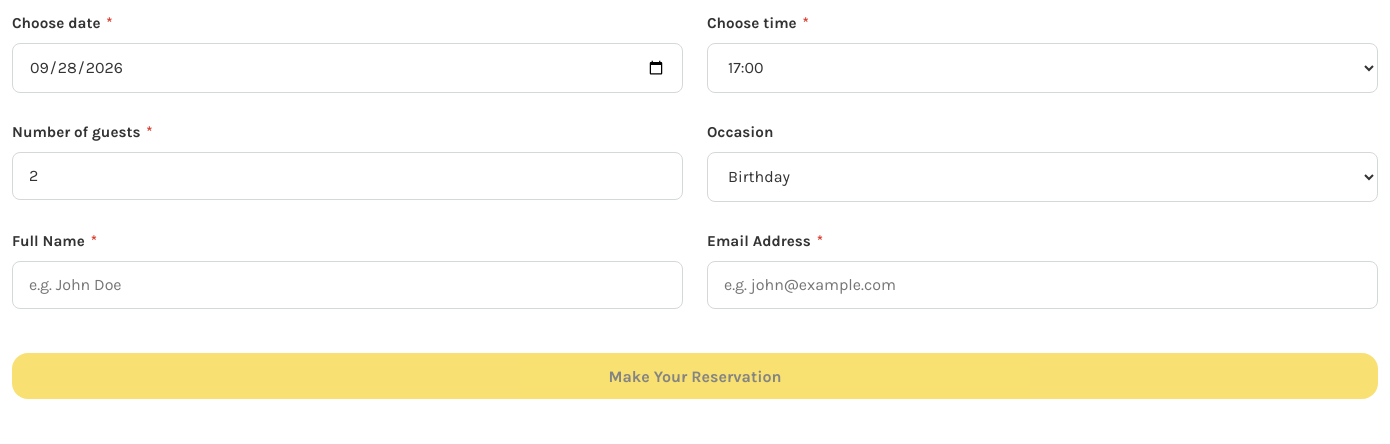
Test: Form validation logic › shows error for invalid email address
Type "invalid-email" into the field labelled "Email Address *".
click(1042, 285); type("invalid-email")  # box [707, 261, 1378, 309]
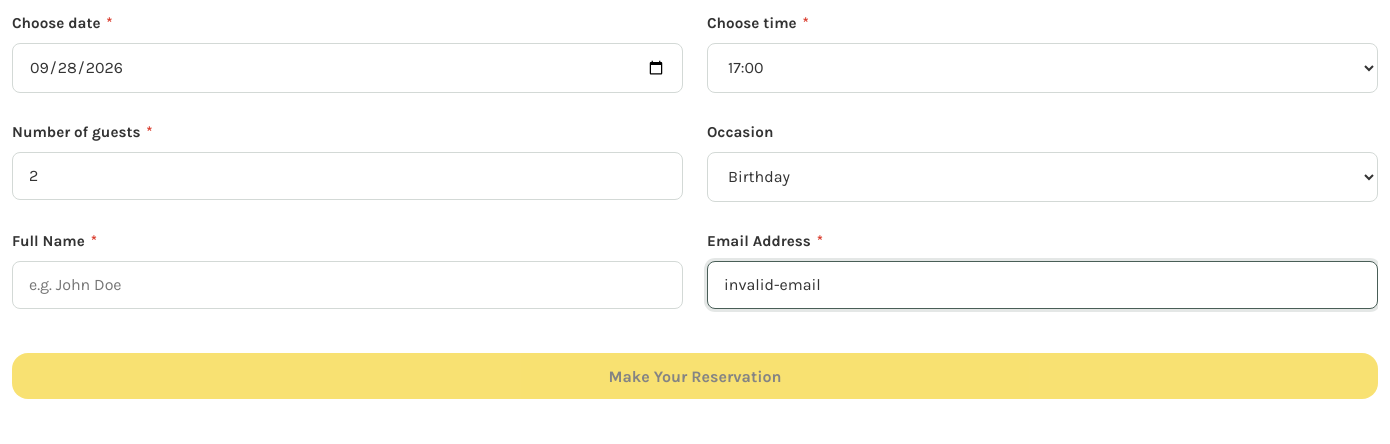
Press Tab
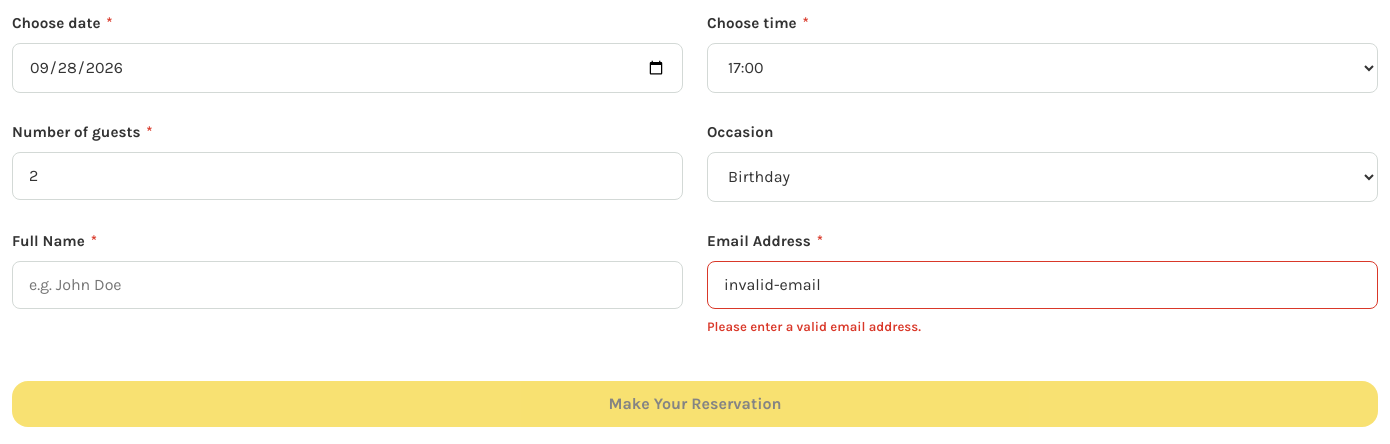
Now the text "Please enter a valid email address." is shown, box [707, 319, 921, 334]
